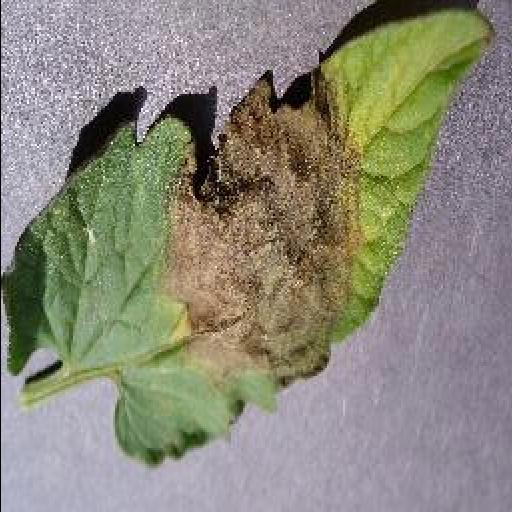disease_tomato: (0, 11, 494, 469)
